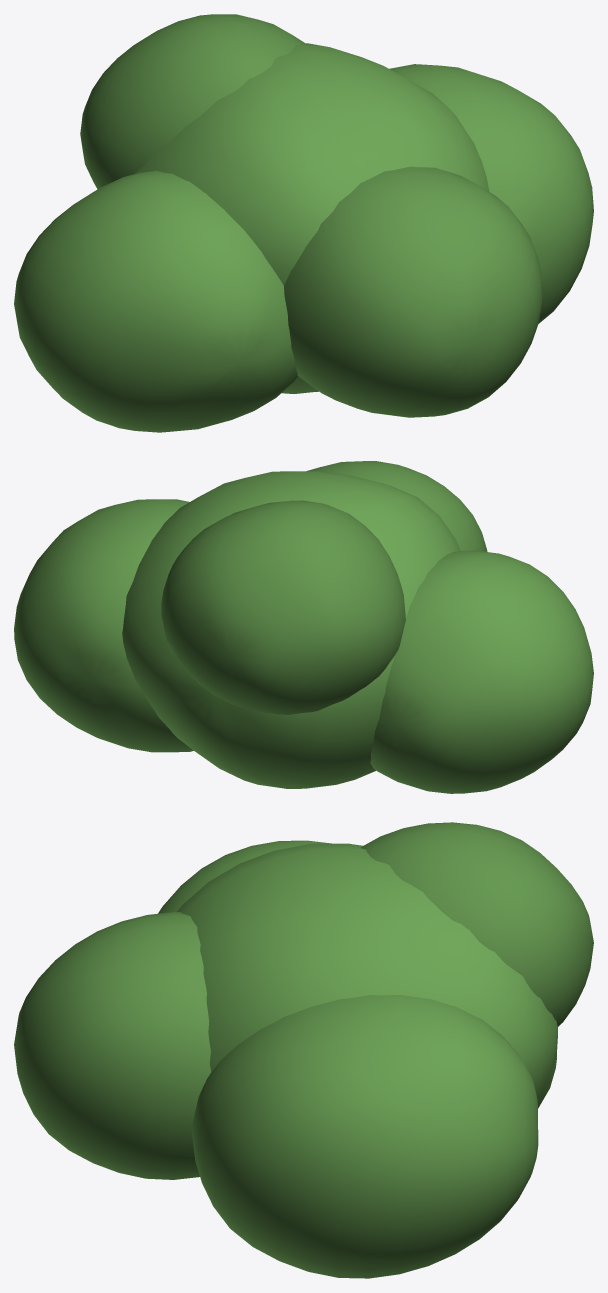
The model's file is bush_round.glb.
3 renders of one model, top to bottom at view 1: azimuth 30°, elevation 25°; view 2: azimuth 150°, elevation 25°; view 3: azimuth 270°, elevation 25°, orthographic. The views are drawn at different scales.
Visible parts, largest first — view 1: Bush_Round_Leaves; view 2: Bush_Round_Leaves; view 3: Bush_Round_Leaves.
Boxes of the visible parts, x1,y1,x2,y2 form: Bush_Round_Leaves: (14, 14, 593, 432); Bush_Round_Leaves: (14, 461, 593, 793); Bush_Round_Leaves: (14, 822, 593, 1278).
Bounding box in the file's own units: 1.65 × 0.8937 × 1.39.
